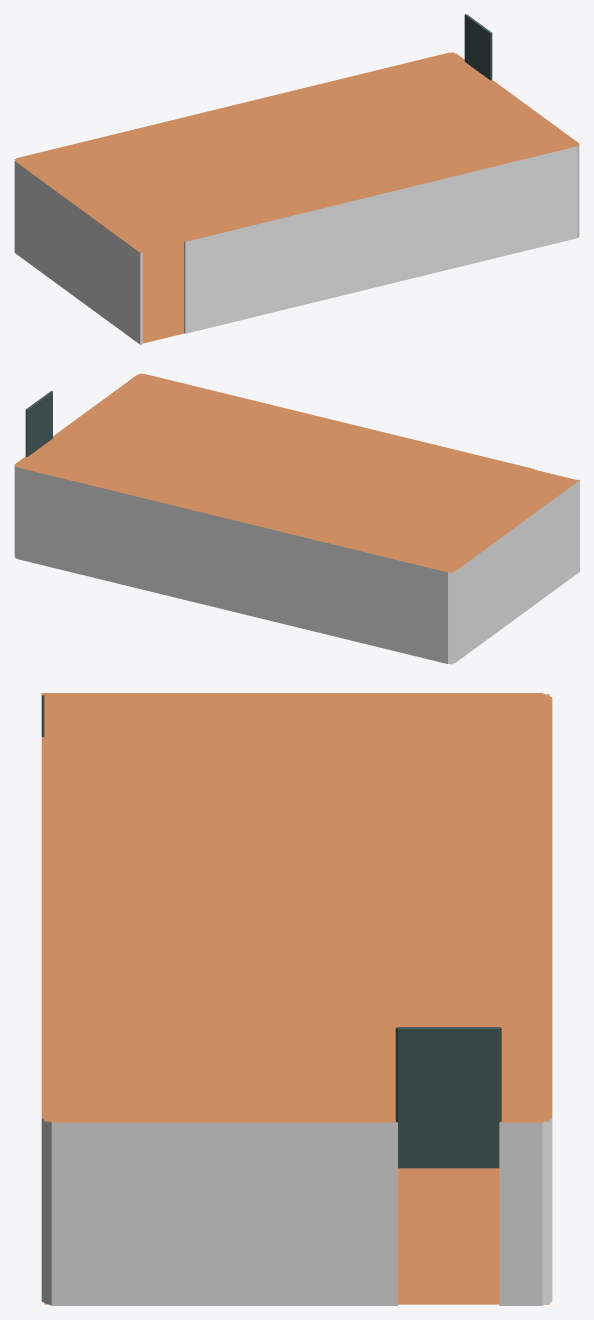
File: room 8.obj
3 renders of one model, top to bottom at view 1: azimuth 30°, elevation 25°; view 2: azimuth 150°, elevation 25°; view 3: azimuth 270°, elevation 25°, orthographic. The views are drawn at different scales.
Parts seen in each view (by area): view 1: result.028_Cube.048, wall.197_wall.021, wall.207_wall.021, wall.194_wall.020, wall.206_wall.010, wall.205_wall.020, wall.204_wall.021; view 2: result.028_Cube.048, wall.204_wall.021, wall.207_wall.021, wall.205_wall.020, wall.203_wall.020, wall.206_wall.010, wall.197_wall.021; view 3: result.028_Cube.048, wall.202_wall.021, wall.206_wall.010, wall.203_wall.020, wall.194_wall.020, wall.204_wall.021, wall.197_wall.021, wall.207_wall.021.
Boxes of the visible parts, <box> form: result.028_Cube.048: <box>14,52,579,343</box>; wall.197_wall.021: <box>184,150,558,333</box>; wall.207_wall.021: <box>25,168,142,344</box>; wall.194_wall.020: <box>558,135,579,242</box>; wall.206_wall.010: <box>464,14,492,80</box>; wall.205_wall.020: <box>14,153,36,260</box>; wall.204_wall.021: <box>35,57,430,154</box>; result.028_Cube.048: <box>14,373,577,664</box>; wall.204_wall.021: <box>35,471,429,659</box>; wall.207_wall.021: <box>464,479,579,654</box>; wall.205_wall.020: <box>429,563,465,663</box>; wall.203_wall.020: <box>14,456,35,563</box>; wall.206_wall.010: <box>25,391,52,457</box>; wall.197_wall.021: <box>162,378,534,469</box>; result.028_Cube.048: <box>44,694,549,1304</box>; wall.202_wall.021: <box>94,1120,397,1305</box>; wall.206_wall.010: <box>395,1027,501,1168</box>; wall.203_wall.020: <box>499,1100,552,1305</box>; wall.194_wall.020: <box>41,1100,94,1305</box>; wall.204_wall.021: <box>547,715,552,1099</box>; wall.197_wall.021: <box>41,737,46,1099</box>; wall.207_wall.021: <box>41,693,499,736</box>.
Bounding box in the file's own units: 20.1 × 6.04 × 10.1.
